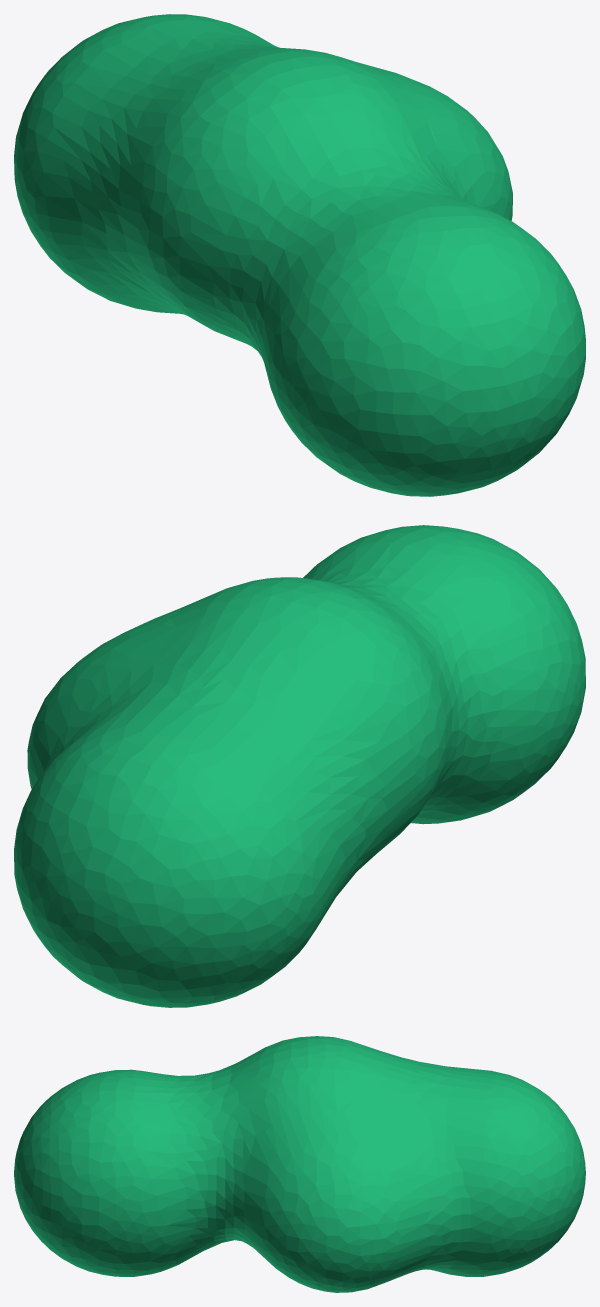
File: cali.fbx
3 renders of one model, top to bottom at view 1: azimuth 30°, elevation 25°; view 2: azimuth 150°, elevation 25°; view 3: azimuth 270°, elevation 25°, orthographic. The views are drawn at different scales.
Visible parts, largest first — view 1: Mball.003; view 2: Mball.003; view 3: Mball.003.
Boxes of the visible parts, box(x1,y1,x2,y2) form: Mball.003: box(14, 14, 585, 496); Mball.003: box(14, 525, 585, 1007); Mball.003: box(14, 1036, 585, 1292).
Bounding box in the file's own units: 67.44 × 55.39 × 132.
